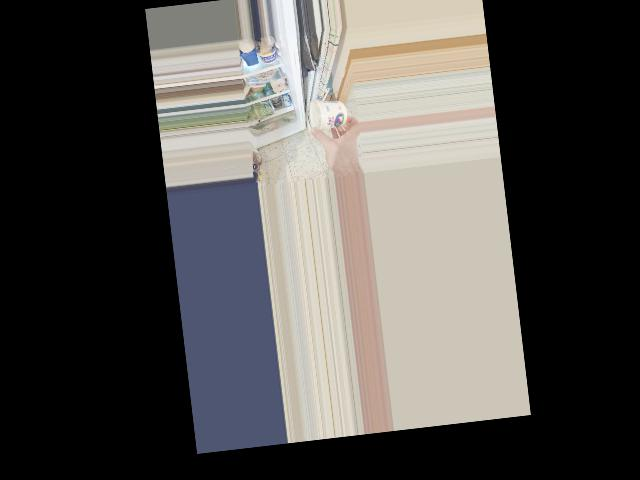cotage: (307, 96, 350, 133)
